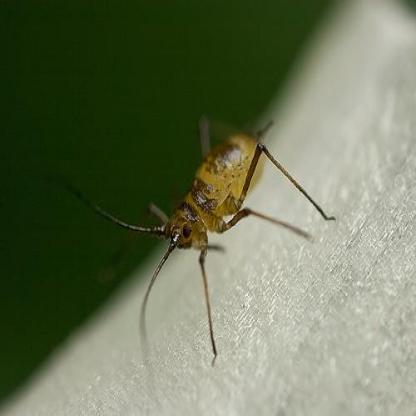aphid: (95, 106, 331, 337)
